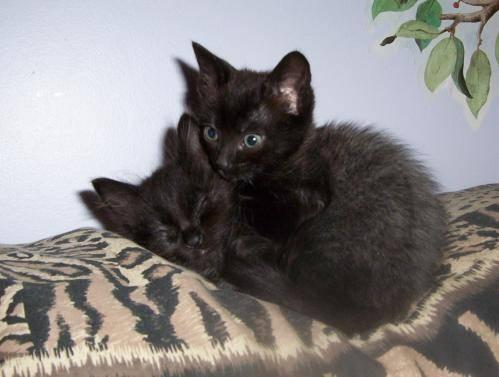cat: (80, 42, 447, 332)
